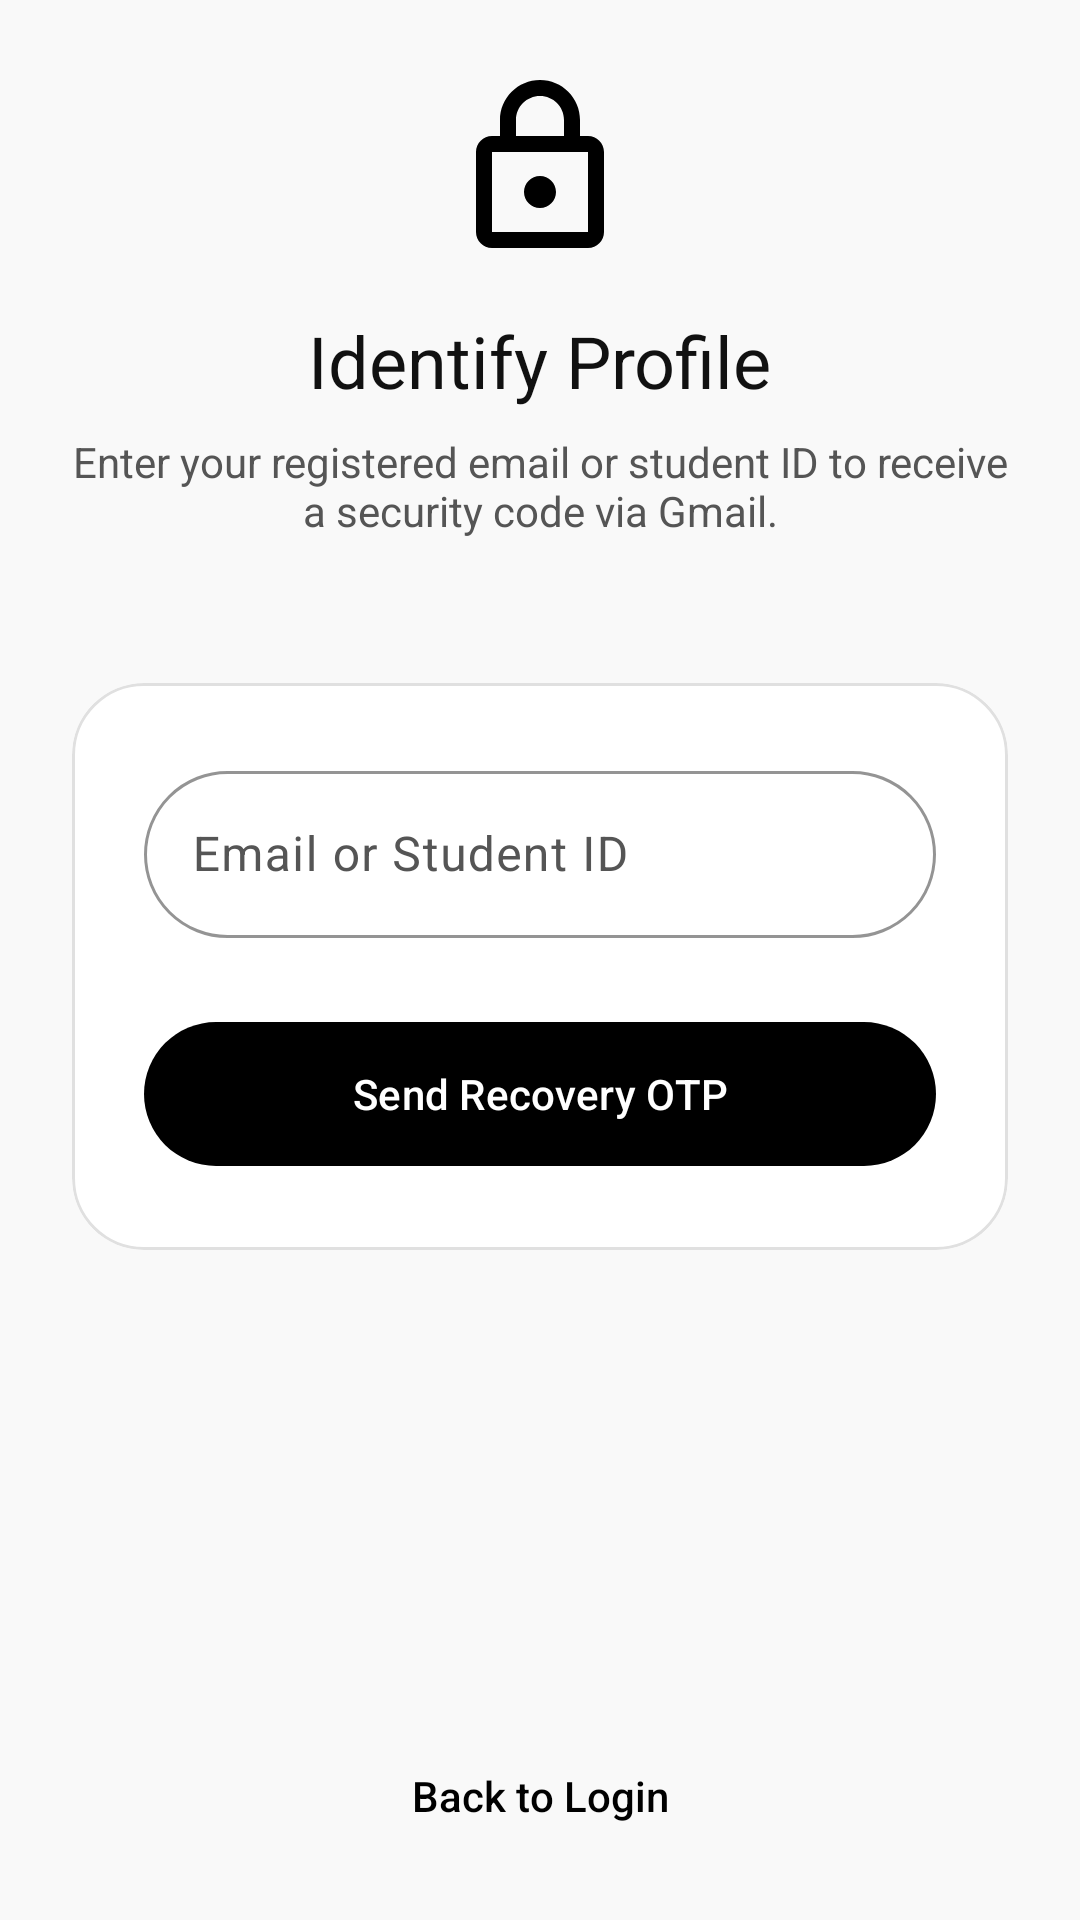

Icons on this 1080*1920 Android screen, each with the point to tap as (x,y):
lock: (540,164)
